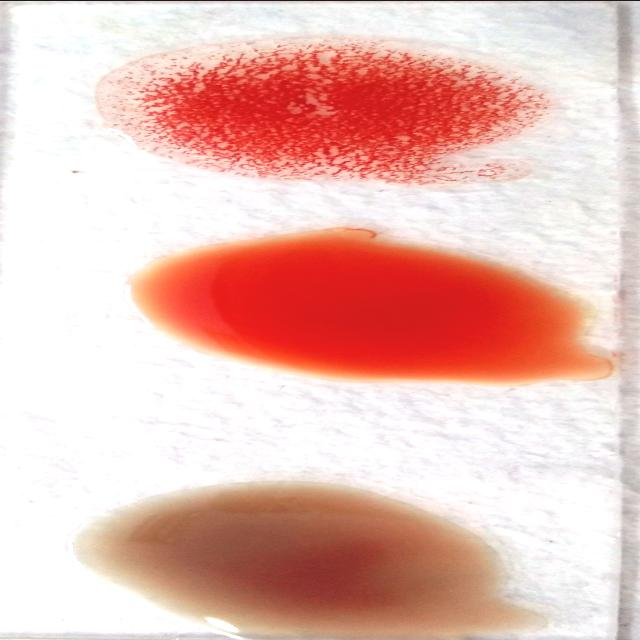D: (101, 42, 565, 176)
